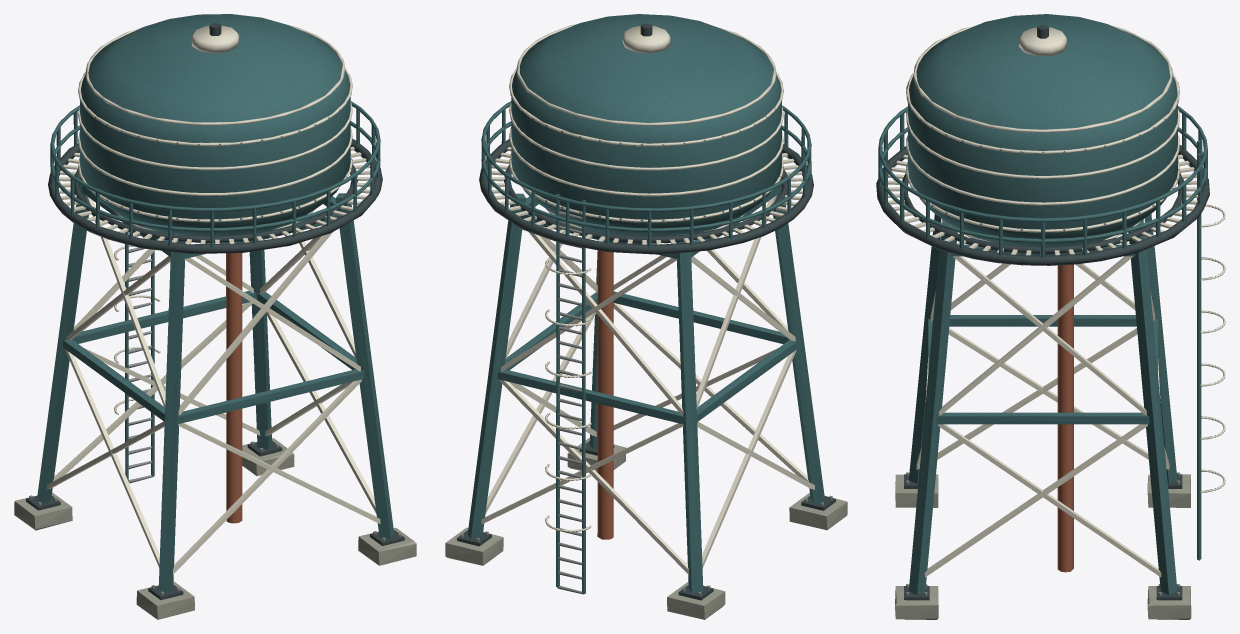
3 renders of one model, left to right at view 1: azimuth 30°, elevation 25°; view 2: azimuth 150°, elevation 25°; view 3: azimuth 270°, elevation 25°, orthographic. The views are drawn at different scales.
Parts seen in each view (by area): view 1: static_assembly_steel_001, static_assembly_ivory_001, static_assembly_dark_001, static_assembly_concrete_001, static_assembly_rust_001, static_assembly_bolt_001, hatch_lid; view 2: static_assembly_steel_001, static_assembly_ivory_001, static_assembly_dark_001, static_assembly_concrete_001, static_assembly_rust_001, static_assembly_bolt_001, hatch_lid; view 3: static_assembly_steel_001, static_assembly_ivory_001, static_assembly_dark_001, static_assembly_rust_001, static_assembly_concrete_001, hatch_lid.
Boxes of the visible parts, x1,y1,x2,y2 form: static_assembly_steel_001: (36, 14, 394, 592); static_assembly_ivory_001: (47, 25, 380, 574); static_assembly_dark_001: (26, 138, 404, 599); static_assembly_concrete_001: (14, 438, 416, 619); static_assembly_rust_001: (226, 253, 242, 523); static_assembly_bolt_001: (29, 73, 401, 595); hatch_lid: (191, 25, 238, 53); static_assembly_steel_001: (467, 14, 825, 593); static_assembly_ivory_001: (481, 24, 814, 574); static_assembly_dark_001: (457, 139, 835, 600); static_assembly_concrete_001: (445, 438, 847, 619); static_assembly_rust_001: (597, 240, 613, 539); static_assembly_bolt_001: (460, 74, 832, 595); hatch_lid: (622, 25, 670, 53); static_assembly_steel_001: (878, 14, 1207, 594); static_assembly_ivory_001: (888, 25, 1225, 577); static_assembly_dark_001: (876, 145, 1209, 600); static_assembly_rust_001: (1057, 264, 1073, 572); static_assembly_concrete_001: (895, 474, 1191, 619); hatch_lid: (1019, 27, 1067, 56).
Size of the model in its own units: 6 by 10 by 6.
Materials: 6 (2 with a texture image).
